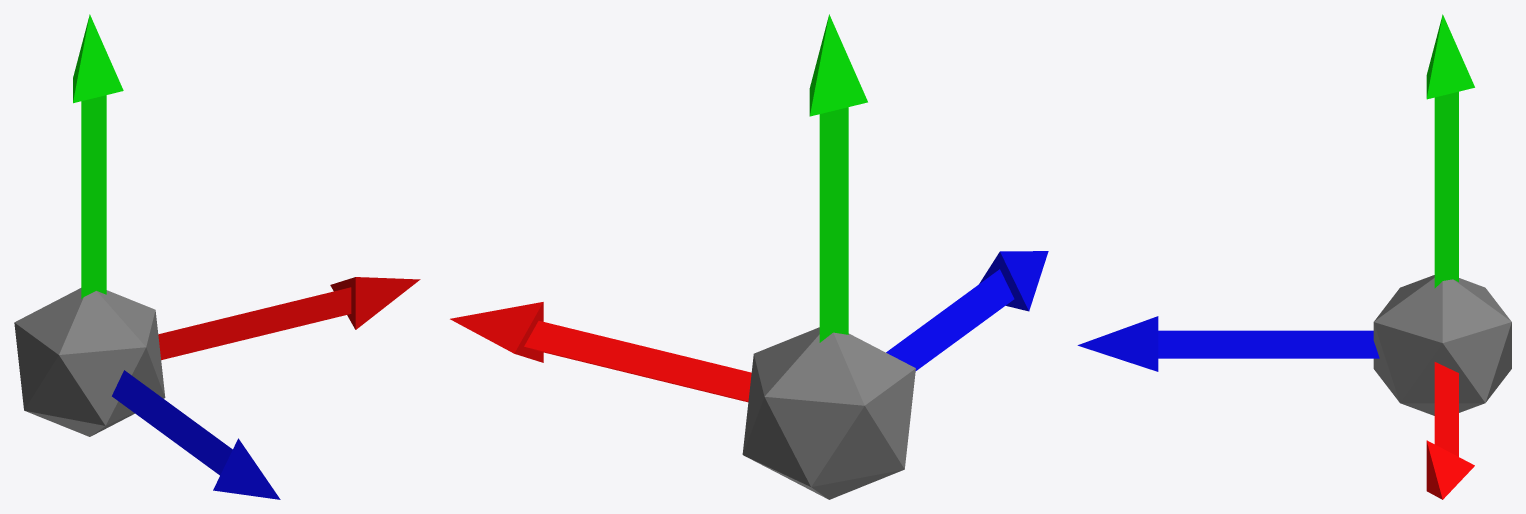
Rendered from controlPoint.obj.
The picture shows the model from 3 angles, left to right: view 1: azimuth 30°, elevation 25°; view 2: azimuth 150°, elevation 25°; view 3: azimuth 270°, elevation 25°; orthographic projection. The views are drawn at different scales.
Size of the model in its own units: 13.49 by 13.75 by 13.38.
